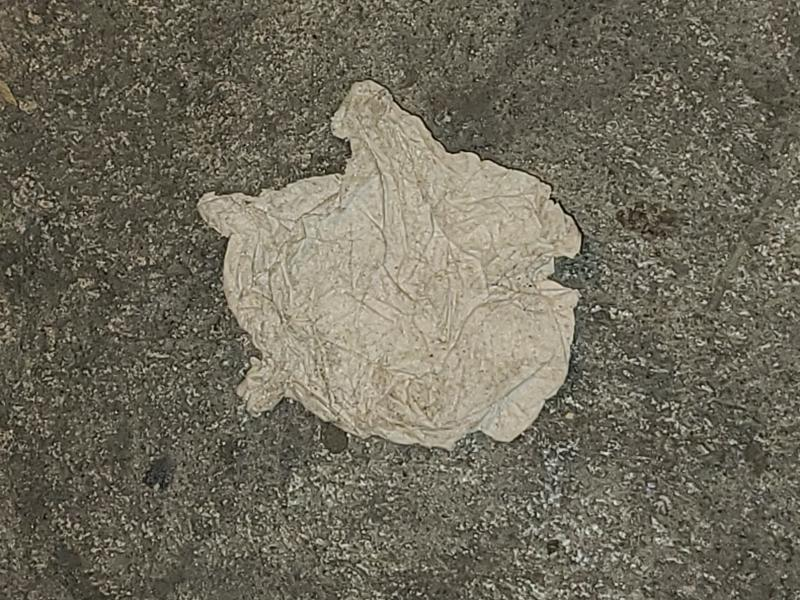papel: (195, 81, 583, 452)
